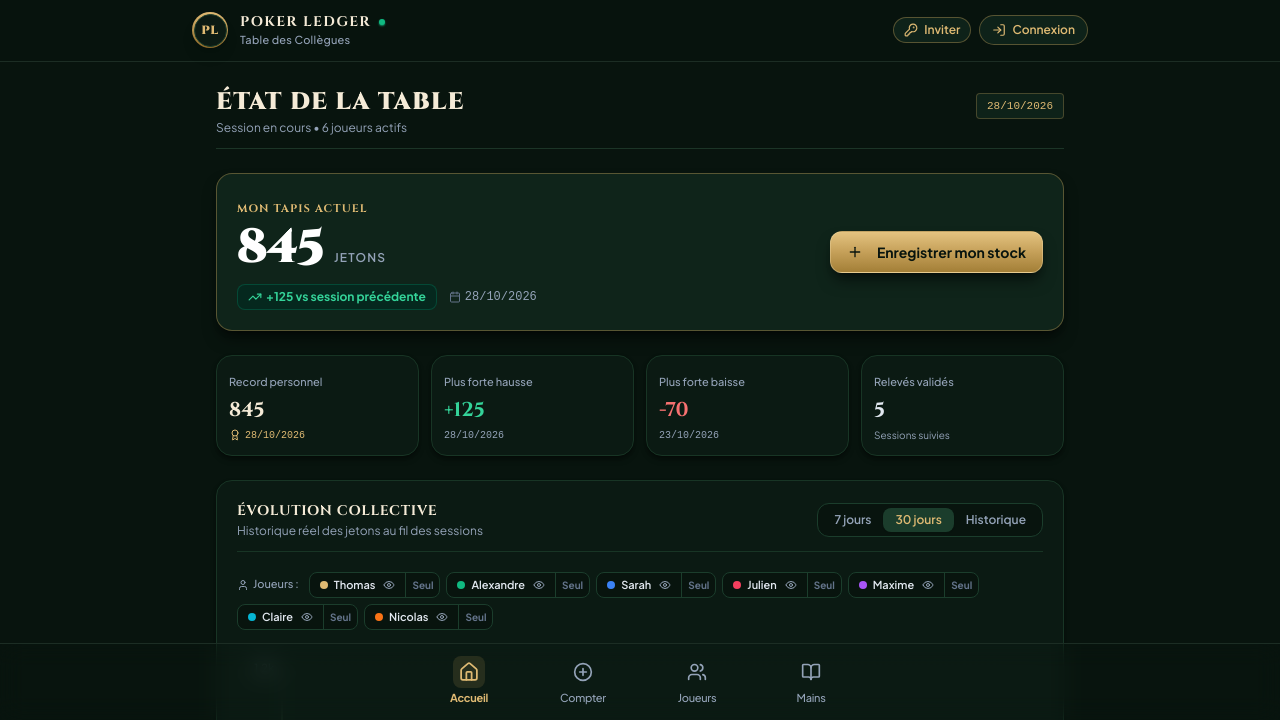
Test case: App - Shell responsive et navigation › navigue vers l’onglet Mains et affiche les 10 combinaisons officielles
This screenshot has width=1280, height=720.
Step 1. Click the button "Mains" → (811, 681), box top-left (758, 652), bottom-right (864, 710)
(page scrolled)
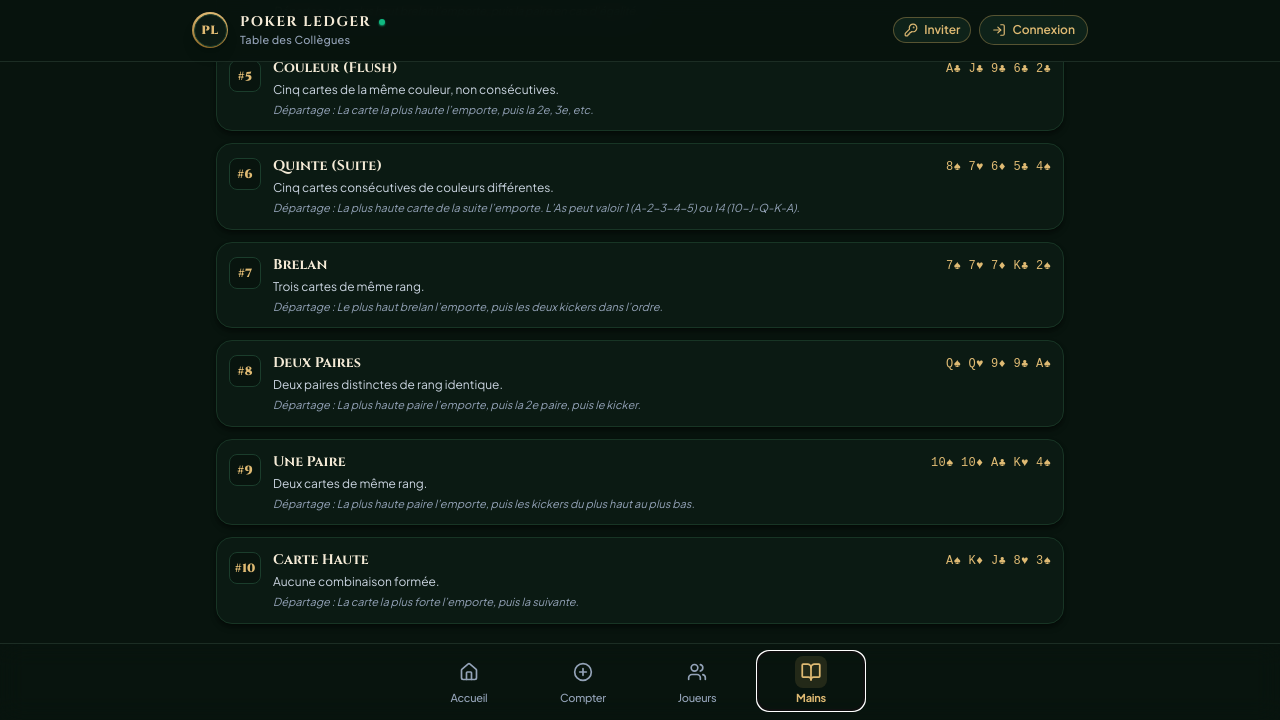
Result: the heading "Carte Haute" is shown at top-left (273, 550), bottom-right (369, 570)
